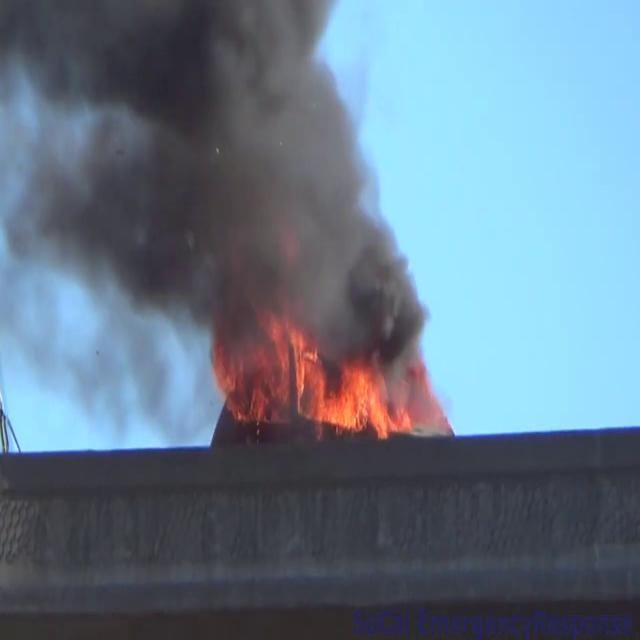Fire: (248, 312, 404, 442)
Smoke: (1, 0, 433, 378)
